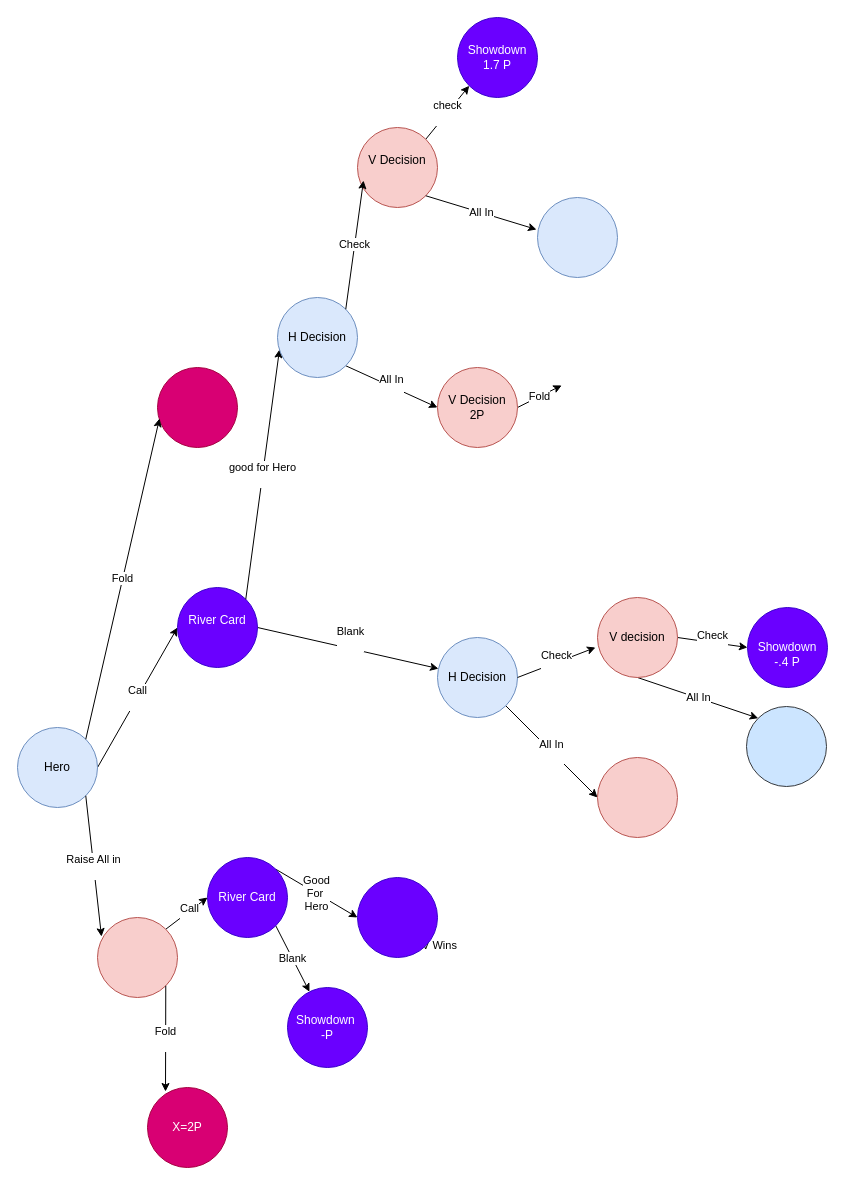
The diagram is 845 pixels wide and 1185 high, and some of its shapes have lost their labels. The shapes that lost their labels are listed below. From the top down, each one's centre as x and y in pixels, then its label:
At point (577, 237): "2.5 P".
At point (197, 407): "X=0".
At point (786, 746): "H Decision -P".
At point (637, 797): "V Decision -P".
At point (397, 917): "Showdown 2.5 P".
At point (137, 957): "Villian".
